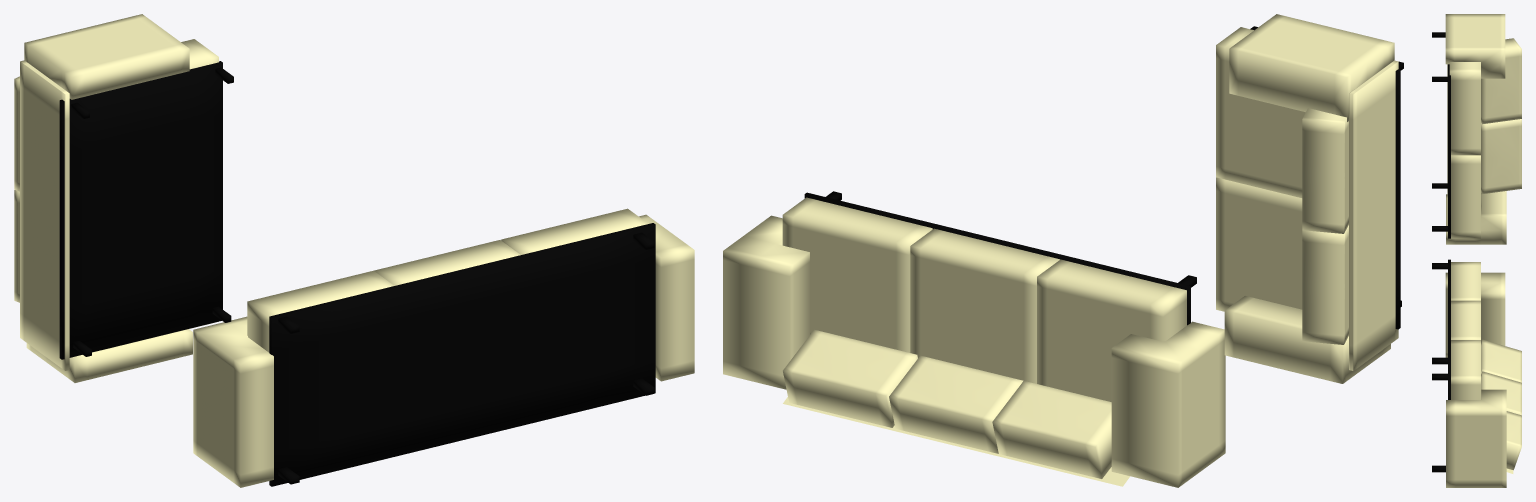
File: sofa.dae
The picture shows the model from 3 angles, left to right: view 1: azimuth 30°, elevation 25°; view 2: azimuth 150°, elevation 25°; view 3: azimuth 270°, elevation 25°; orthographic projection. The views are drawn at different scales.
Visible parts, largest first — view 1: Cube_001, Cube_002; view 2: Cube_001, Cube_002; view 3: Cube_002, Cube_001.
Boxes of the visible parts, bbox=[...] form: Cube_001: bbox=[193, 208, 694, 487]; Cube_002: bbox=[14, 14, 233, 382]; Cube_001: bbox=[723, 191, 1225, 487]; Cube_002: bbox=[1216, 14, 1403, 383]; Cube_002: bbox=[1432, 14, 1521, 244]; Cube_001: bbox=[1432, 259, 1521, 487].
Bounding box in the file's own units: 5.64 × 1.1 × 3.93.
